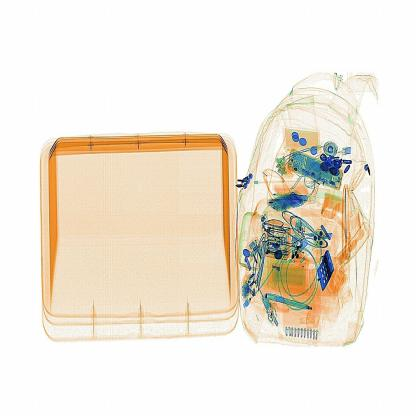pliers: (342, 184, 352, 265)
